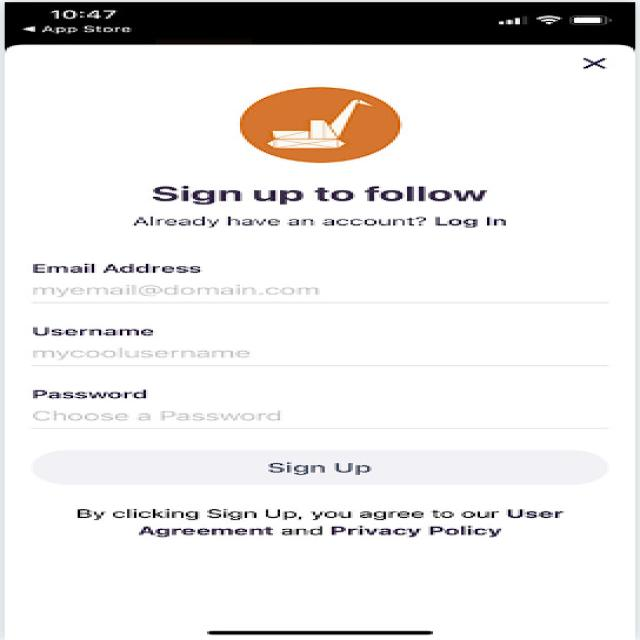button: (15, 443, 623, 493)
icon button: (568, 51, 621, 79)
input: (21, 314, 626, 376), (21, 250, 621, 310), (24, 377, 623, 434)
text: (62, 496, 598, 542), (127, 178, 531, 237)
view: (218, 80, 421, 169)
